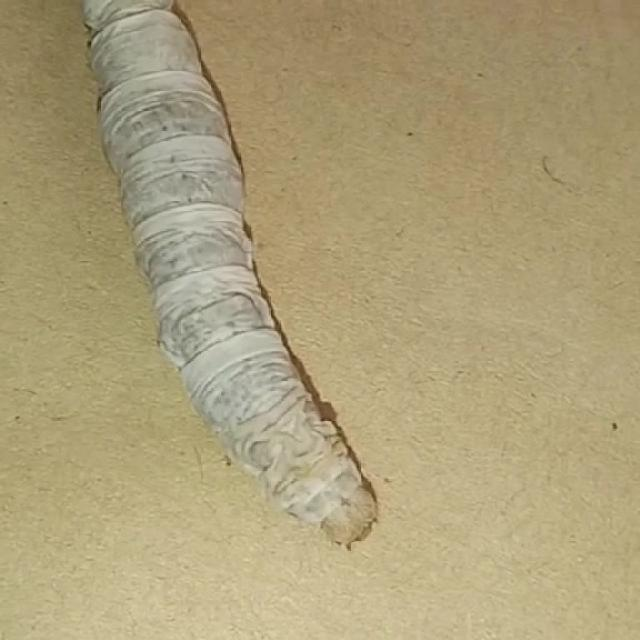Grasserie: (62, 1, 386, 546)
